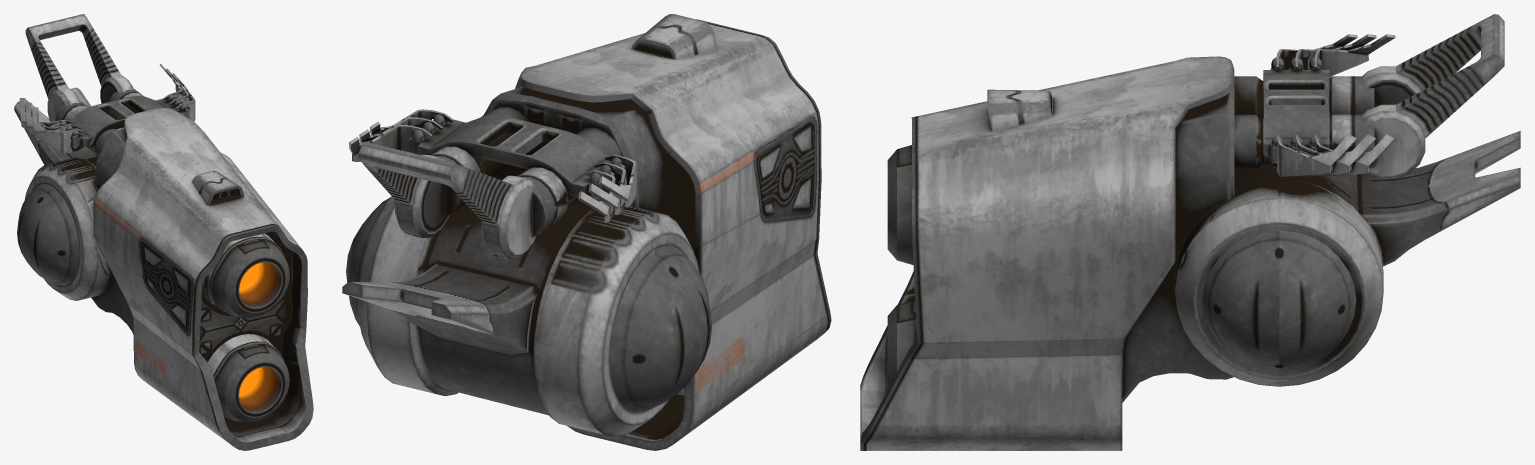
File: ShipBigCannon.fbx
3 views of the same model, side by side, from view 1: azimuth 30°, elevation 25°; view 2: azimuth 150°, elevation 25°; view 3: azimuth 270°, elevation 25° (orthographic). The views are drawn at different scales.
Visible parts, largest first — view 1: defaultMaterial.001; view 2: defaultMaterial.001; view 3: defaultMaterial.001.
Boxes of the visible parts, x1,y1,x2,y2 form: defaultMaterial.001: (14,14,313,450); defaultMaterial.001: (342,14,831,450); defaultMaterial.001: (860,14,1520,450).
Bounding box in the file's own units: 43.75 × 53.63 × 80.34.
